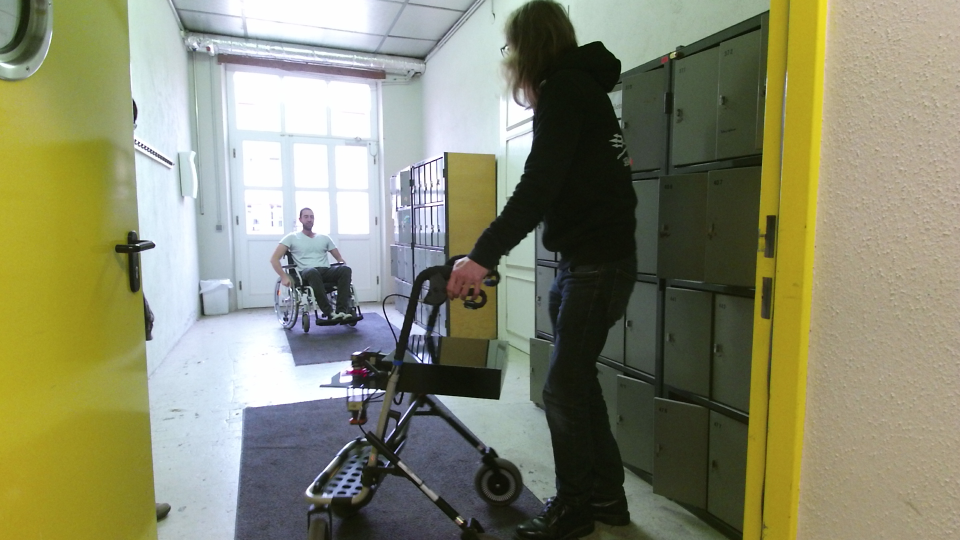wheelchair: (261, 200, 362, 334)
